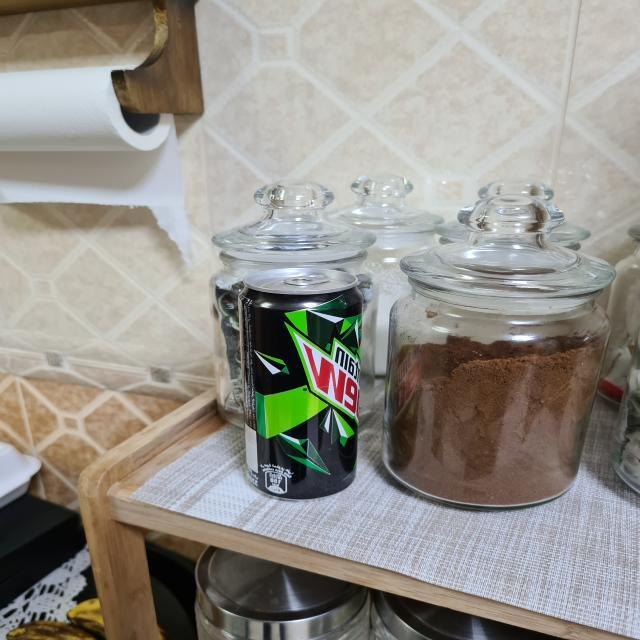can: (228, 267, 379, 496)
